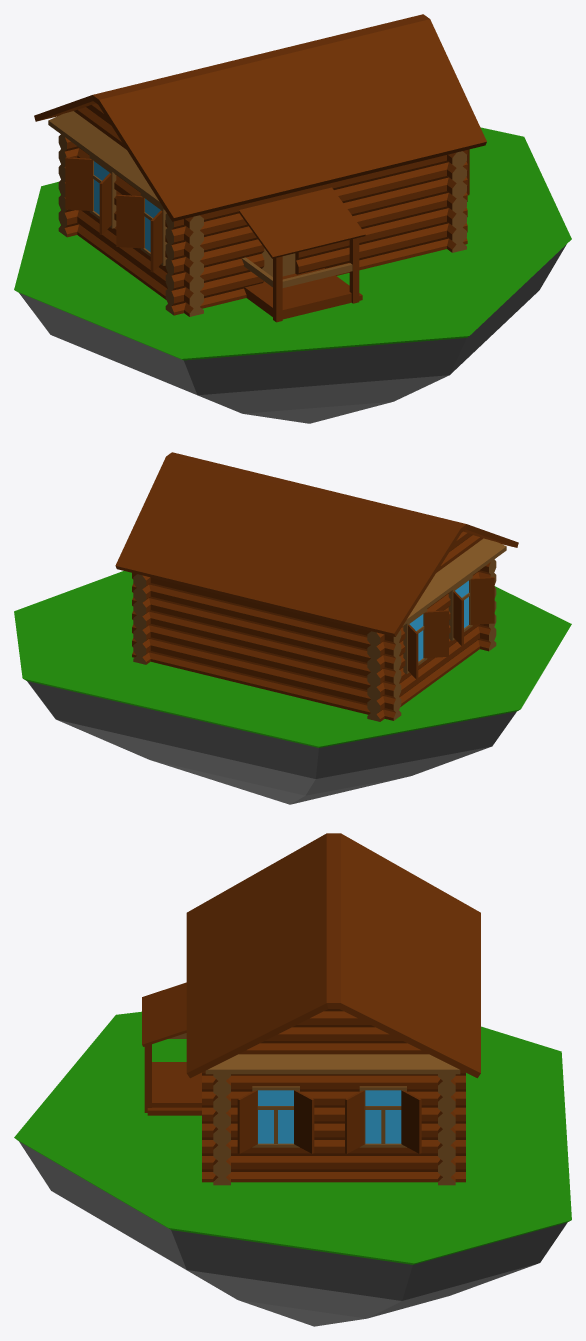
The model's file is old_school.glb.
3 renders of one model, top to bottom at view 1: azimuth 30°, elevation 25°; view 2: azimuth 150°, elevation 25°; view 3: azimuth 270°, elevation 25°, orthographic. The views are drawn at different scales.
Visible parts, largest first — view 1: крыша, трава?, камень(большой), перед, Cube, лево, навес 2, Cube.004, Cube.016, Cube.020, право, зад (+6 smaller); view 2: крыша, трава?, камень(большой), зад, лево, навес 2, Cube.020, Cube.016, право, перед, Cube.015, Cube.019 (+1 smaller); view 3: трава?, крыша, камень(большой), право, навес 1, право.001, Cube.004, Cube.008, Cube.010, Cube, Cube.007, Cube.009 (+2 smaller).
Boxes of the visible parts, box(x1,y1,x2,y2) form: крыша: box(34, 14, 486, 221); трава?: box(14, 127, 571, 360); камень(большой): box(19, 244, 566, 423); перед: box(165, 150, 467, 315); Cube: box(238, 187, 365, 258); лево: box(77, 146, 203, 316); навес 2: box(48, 111, 164, 209); Cube.004: box(244, 268, 362, 319); Cube.016: box(116, 194, 162, 272); Cube.020: box(65, 157, 111, 234); право: box(447, 151, 466, 252); зад: box(58, 134, 78, 237); крыша: box(115, 452, 518, 636); трава?: box(14, 571, 571, 747); камень(большой): box(27, 681, 516, 804); зад: box(132, 573, 401, 720); лево: box(367, 570, 479, 721); навес 2: box(402, 538, 506, 626); Cube.020: box(408, 610, 448, 679); Cube.016: box(453, 577, 494, 645); право: box(133, 574, 150, 664); перед: box(478, 559, 496, 651); Cube.015: box(448, 575, 472, 640); Cube.019: box(403, 609, 427, 673); трава?: box(14, 1011, 571, 1264); крыша: box(186, 833, 480, 1078); камень(большой): box(19, 1141, 567, 1326); право: box(202, 1070, 465, 1182); навес 1: box(205, 1054, 460, 1074); право.001: box(239, 1009, 428, 1054); Cube.004: box(147, 1062, 201, 1115); Cube.008: box(345, 1090, 421, 1153); Cube.010: box(237, 1090, 314, 1153); Cube: box(142, 982, 186, 1046); Cube.007: box(359, 1086, 406, 1147); Cube.009: box(252, 1086, 299, 1147).
Size of the model in its own units: 10.83 by 7.08 by 9.22.
